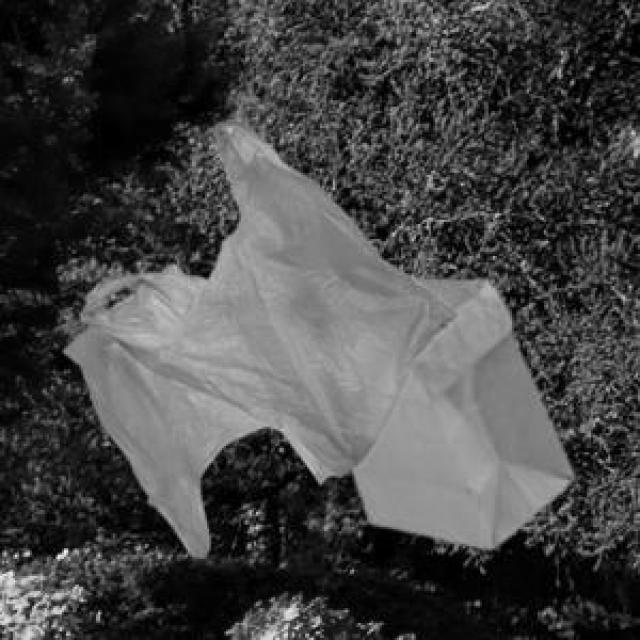paper: (348, 275, 570, 544)
